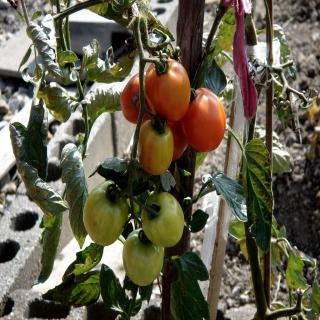tomato: (176, 85, 228, 153), (81, 178, 129, 246), (142, 54, 192, 119), (120, 226, 164, 287), (140, 190, 184, 248), (115, 70, 153, 126), (138, 115, 172, 175), (164, 118, 190, 162)
